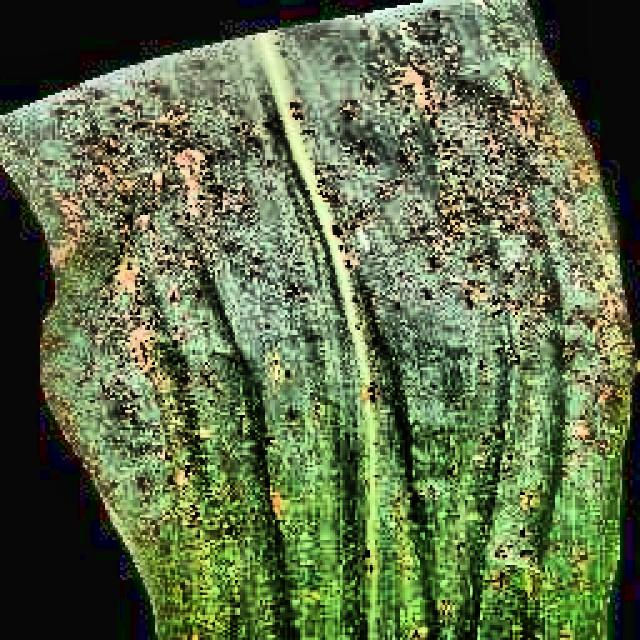common_rust: (52, 95, 640, 465)
